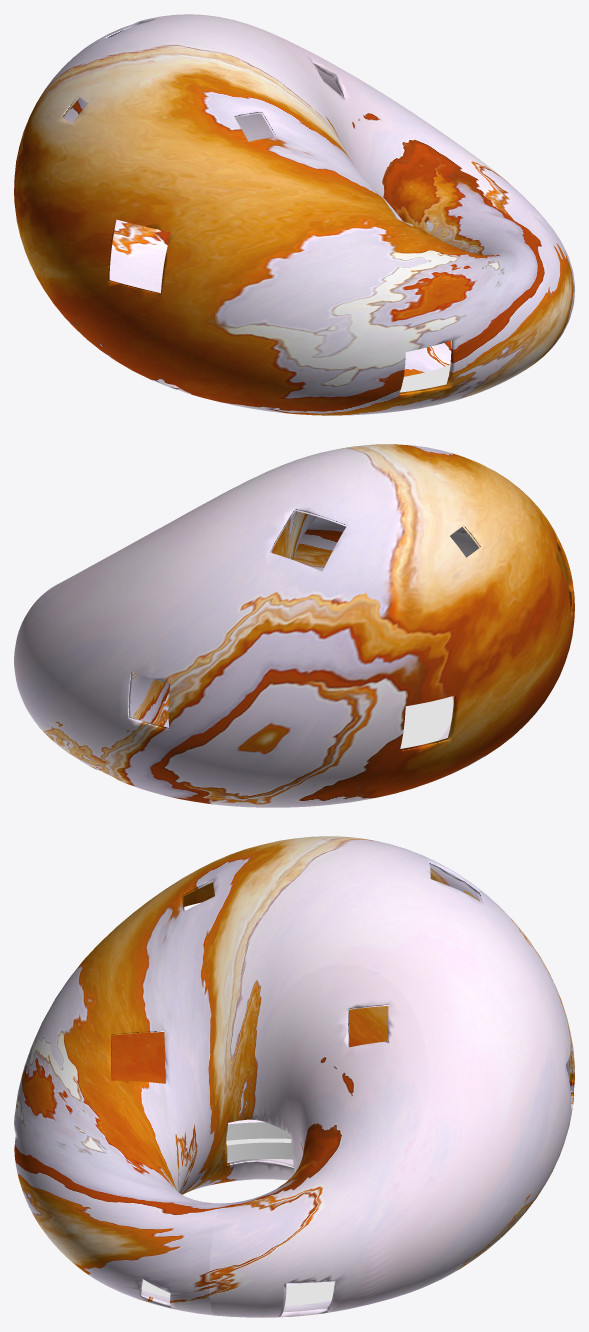
3 renders of one model, top to bottom at view 1: azimuth 30°, elevation 25°; view 2: azimuth 150°, elevation 25°; view 3: azimuth 270°, elevation 25°, orthographic. The views are drawn at different scales.
Visible parts, largest first — view 1: Solids, Ramps_2; view 2: Solids, Ramps_2; view 3: Solids, Ramps, Ramps_2.
Boxes of the visible parts, x1,y1,x2,y2 form: Solids: (14, 14, 574, 415); Ramps_2: (400, 365, 450, 392); Solids: (14, 444, 574, 807); Ramps_2: (400, 696, 453, 748); Solids: (14, 836, 574, 1317); Ramps: (226, 1122, 292, 1161); Ramps_2: (142, 1138, 334, 1306).
Size of the model in its own units: 48.09 by 29.07 by 46.65.
Materials: 2 (2 with a texture image).
